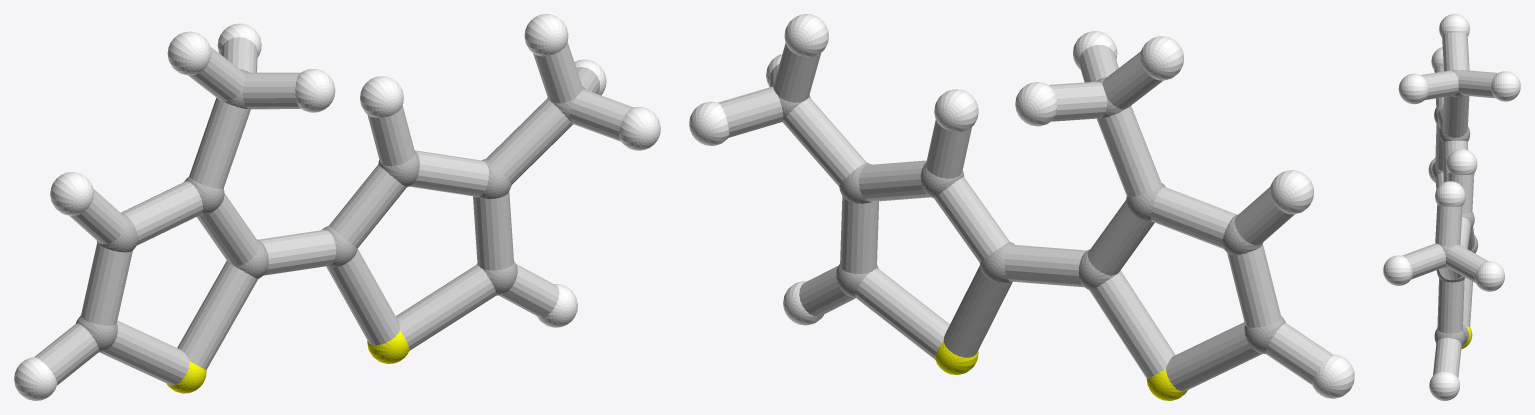
Rendered from Methylthiophene_Phi_10_Theta_180_Methylthiophene.glb.
The picture shows the model from 3 angles, left to right: view 1: azimuth 30°, elevation 25°; view 2: azimuth 150°, elevation 25°; view 3: azimuth 270°, elevation 25°; orthographic projection. The views are drawn at different scales.
Visible parts, largest first — view 1: grp7965, grp3621, grp1, grp7241; view 2: grp7965, grp3621, grp1, grp7241; view 3: grp7965, grp3621, grp1.
Part boxes in pixels (box(x1,y1,x2,y2)): grp7965: box(34, 37, 633, 385); grp3621: box(14, 14, 660, 400); grp1: box(76, 69, 585, 352); grp7241: box(166, 331, 409, 393); grp7965: box(718, 43, 1332, 391); grp3621: box(689, 14, 1354, 398); grp1: box(771, 77, 1285, 353); grp7241: box(935, 341, 1187, 400); grp7965: box(1402, 32, 1497, 377); grp3621: box(1383, 14, 1520, 400); grp1: box(1432, 70, 1478, 345).
Bounding box in the file's own units: 9.74 × 5.69 × 2.68.
